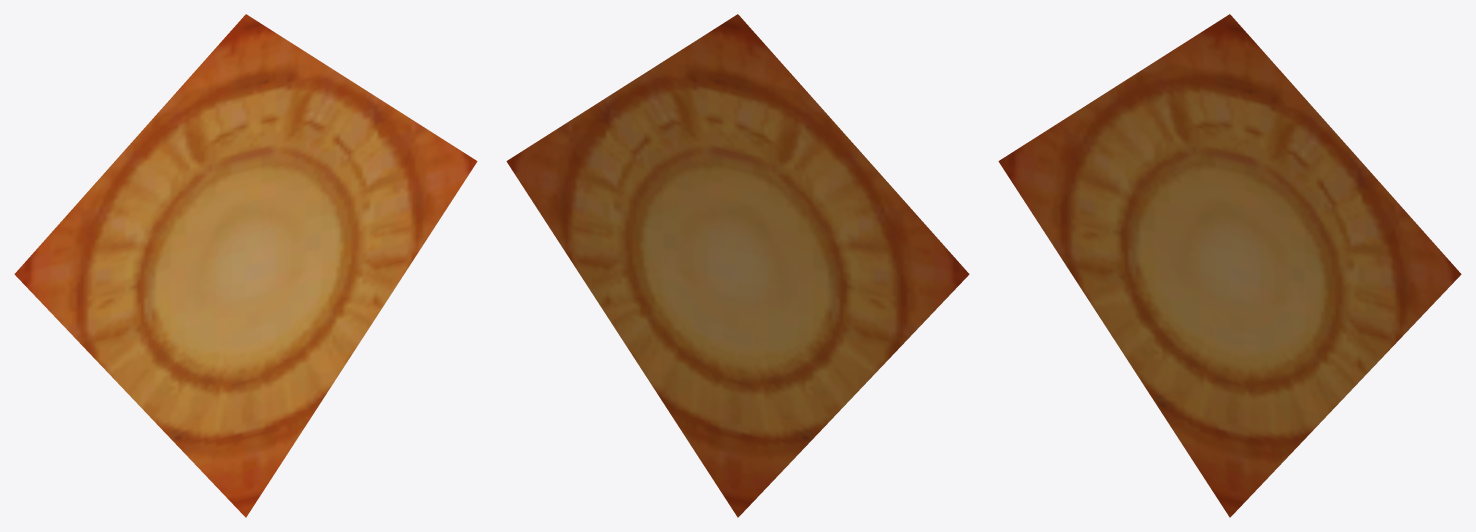
Rendered from hutt_fighter_light_engine_s01_on_l3.fbx.
3 views of the same model, side by side, from view 1: azimuth 30°, elevation 25°; view 2: azimuth 150°, elevation 25°; view 3: azimuth 330°, elevation 25° (orthographic).
Parts seen in each view (by area): view 1: mesh_node; view 2: mesh_node; view 3: mesh_node.
Boxes of the visible parts, bbox=[...] form: mesh_node: bbox=[14, 14, 477, 517]; mesh_node: bbox=[506, 14, 969, 517]; mesh_node: bbox=[998, 14, 1461, 517].
Bounding box in the file's own units: 1.2 × 1.25 × 0.
1 material, 1 textured.
